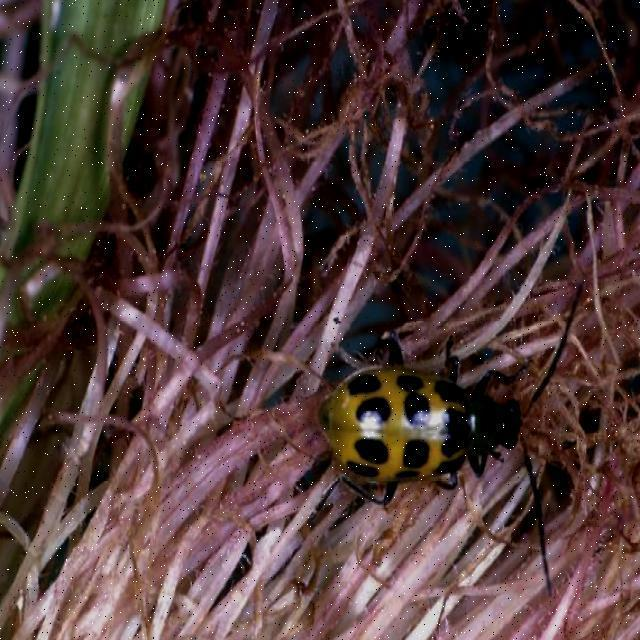gusano_verde: (308, 295, 580, 581)
